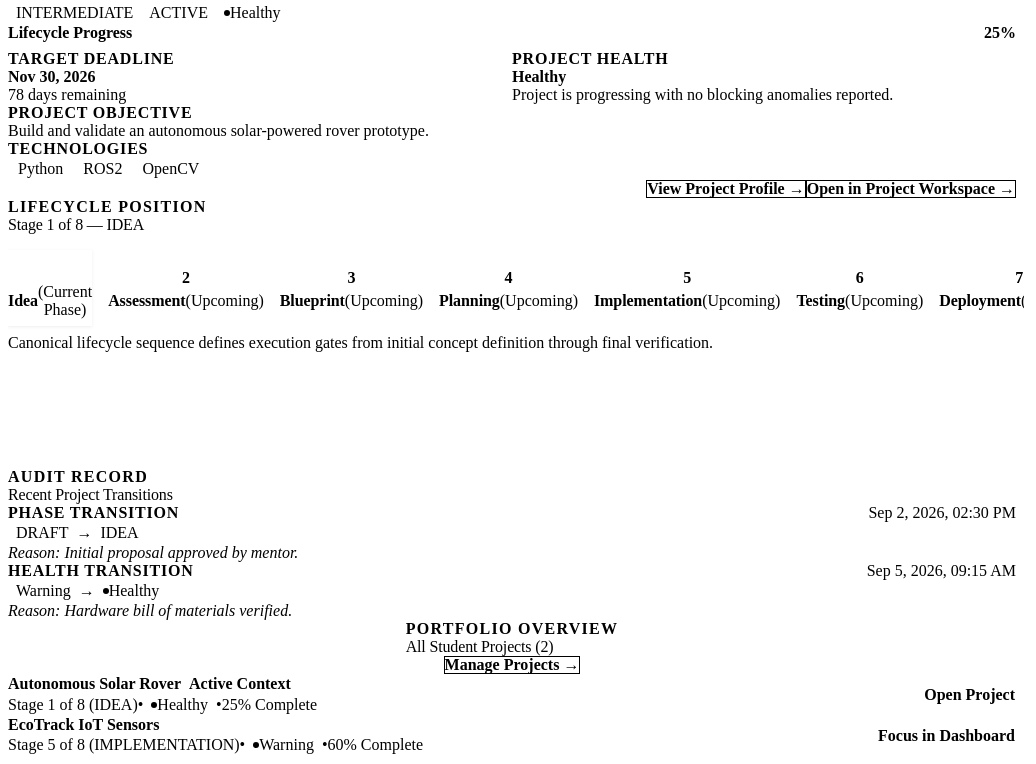
Test: S01 — Student Dashboard › 10. renders secondary projects portfolio when multiple projects exist and allows focusing
(page scrolled)
Expected: the heading "All Student Projects (2)" is shown, [406,638,553,655]
Expected: the text "EcoTrack IoT Sensors" is shown, [8,716,159,734]
What coordinates should you click on to do the following:
click the button with aria-label "view ecotrack iot sensors overview in dashboard"
I would click on:
 (947, 736)
Its box is [877,727,1016,745].
(page scrolled)
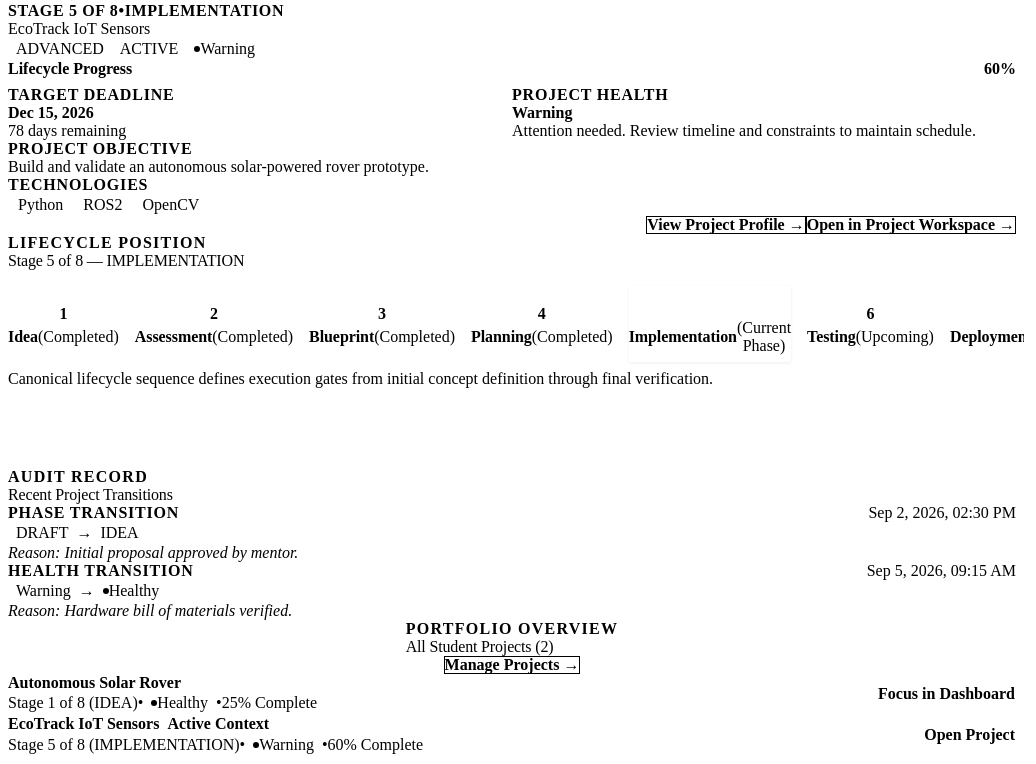
Result: the heading "EcoTrack IoT Sensors" is shown at [8,20,150,37]
